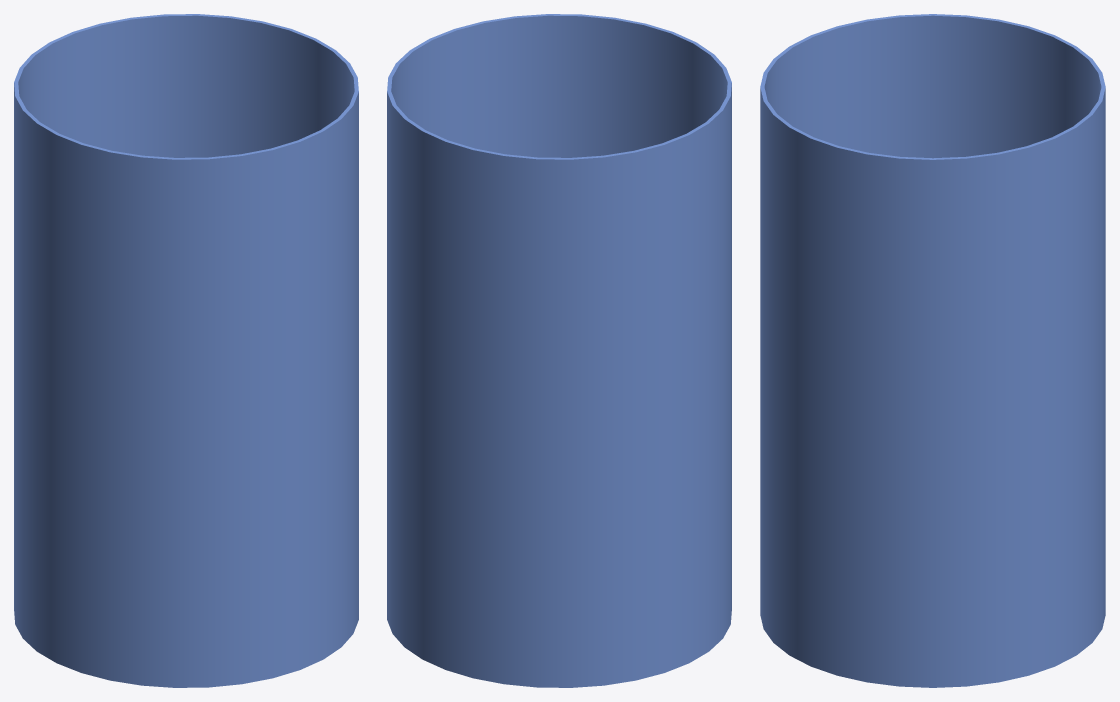
File: boru.fbx
3 views of the same model, side by side, from view 1: azimuth 30°, elevation 25°; view 2: azimuth 150°, elevation 25°; view 3: azimuth 270°, elevation 25° (orthographic).
Parts seen in each view (by area): view 1: Cylinder.003; view 2: Cylinder.003; view 3: Cylinder.003.
Part boxes in pixels (left/top/right/bottom): Cylinder.003: left=14, top=14, right=358, bottom=687; Cylinder.003: left=387, top=14, right=731, bottom=687; Cylinder.003: left=760, top=14, right=1105, bottom=687.
Size of the model in its own units: 166 by 279 by 166.
